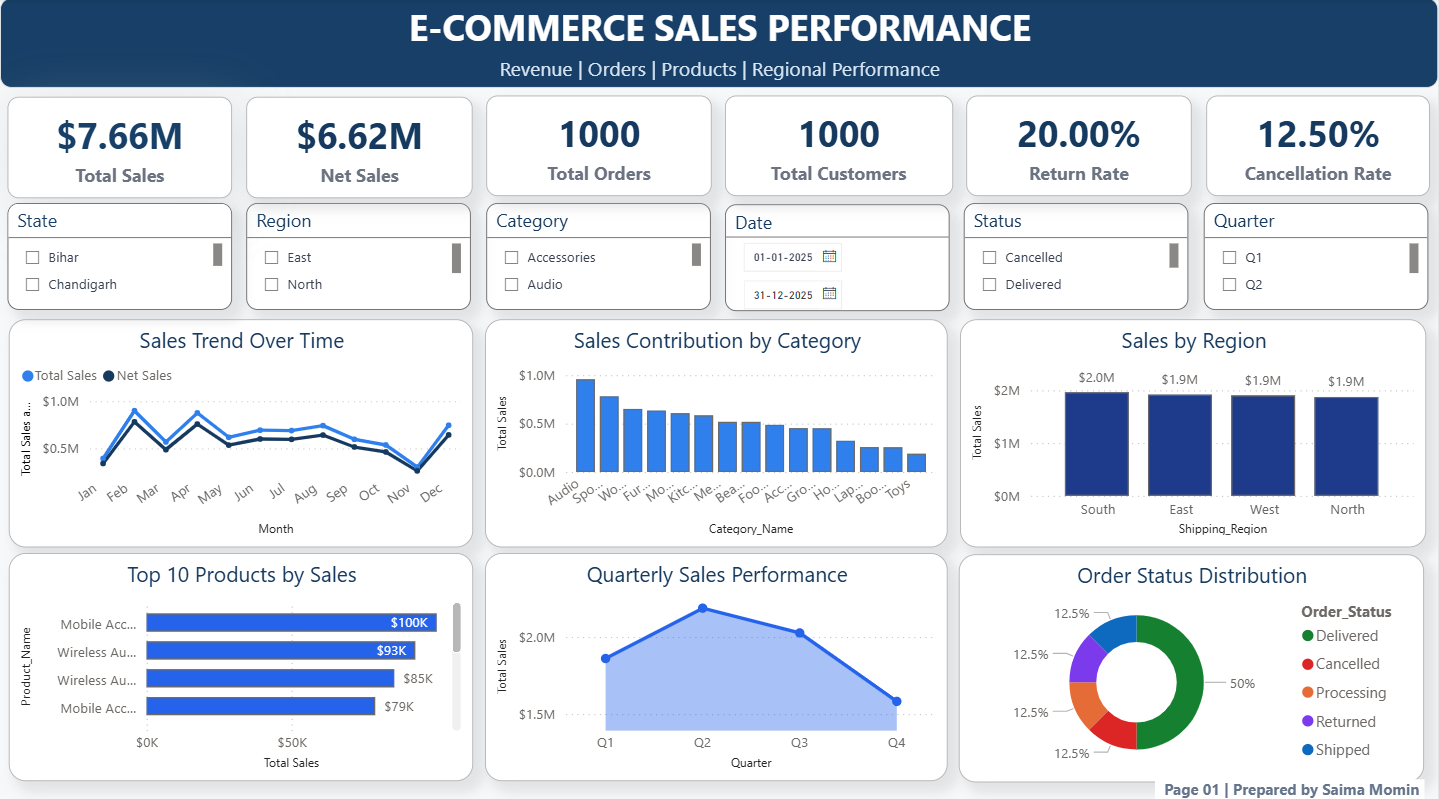

Layout of this report page (visuals, bound fields, positions):
{"tool":"powerbi","page":{"name":"Page 1","canvas":[1280,720],"ordinal":0},"visuals":[{"type":"textbox","title":"E-COMMERCE SALES PERFORMANCE","box":[0,0,1280.7,80],"z":0},{"type":"slicer","title":"Date","fields":{"Values":["Datetable.Date"]},"box":[645.7,183.5,200,95],"z":1000},{"type":"slicer","title":"Category ","fields":{"Values":["Categories.Category_Name"]},"box":[432.7,182.8,200.3,95.2],"z":2000},{"type":"slicer","title":"Region","fields":{"Values":["Orders.Shipping_Region"]},"box":[219.6,182.8,200.3,95.2],"z":3000},{"type":"slicer","title":"Status","fields":{"Values":["Orders.Order_Status"]},"box":[858.4,182.8,200.3,95.2],"z":4000},{"type":"card","fields":{"Values":["Measures .Total Sales"]},"box":[6.6,87.5,200.3,90.3],"z":5000},{"type":"card","fields":{"Values":["Measures .Net Sales"]},"box":[218.9,87.5,202,90.3],"z":6000},{"type":"card","fields":{"Values":["Measures .Total Orders"]},"box":[432.8,87,201.1,89.8],"z":7000},{"type":"card","fields":{"Values":["Measures .Total Customers"]},"box":[645.9,87,202.8,89.8],"z":8000},{"type":"card","fields":{"Values":["Measures .Return Rate"]},"box":[860.7,87,201.1,89.8],"z":9000},{"type":"card","fields":{"Values":["Measures .Cancellation Rate"]},"box":[1073.9,87,199.5,89.8],"z":10000},{"type":"lineChart","title":" Sales Trend Over Time","fields":{"Category":["Datetable.Month"],"Y":["Measures .Total Sales","Measures .Net Sales"]},"box":[7.4,285.7,413.8,203.6],"z":11000},{"type":"slicer","title":"Quarter","fields":{"Values":["Datetable.Quarter"]},"box":[1071.5,182.8,200,95.2],"z":12000},{"type":"lineClusteredColumnComboChart","title":"Sales Contribution by Category","fields":{"Category":["Categories.Category_Name"],"Y":["Measures .Total Sales"]},"box":[431.8,285.7,412.1,203.6],"z":13000},{"type":"clusteredBarChart","title":"Top 10 Products by Sales","fields":{"Category":["Products.Product_Name"],"Y":["Measures .Total Sales"]},"box":[7.7,494.8,413.8,203.6],"z":14000},{"type":"areaChart","title":"Quarterly Sales Performance","fields":{"Category":["Datetable.Quarter"],"Y":["Measures .Total Sales"]},"box":[431.6,494.8,412.1,203.6],"z":15000},{"type":"slicer","title":"State","fields":{"Values":["Orders.Shipping_State"]},"box":[6.6,182.8,200.3,95.2],"z":16000},{"type":"clusteredColumnChart","title":"Sales by Region","fields":{"Category":["Orders.Shipping_Region"],"Y":["Measures .Total Sales"]},"box":[854.6,285.7,415.4,203.6],"z":17000},{"type":"donutChart","title":"Order Status Distribution","fields":{"Category":["Orders.Order_Status"],"Y":["Measures .Total Orders"]},"box":[853.8,495.5,414.3,202.9],"z":18000},{"type":"textbox","title":"Page 01 | Prepared by Saima Momin","box":[1028,695.6,240.4,23.9],"z":19000}]}

Visuals, with their boxes in screenshot pixels (x1, y1, x2, y2), scaled from the page's 1280x720 canvas onto the 1439x799 screenshot:
"E-COMMERCE SALES PERFORMANCE" textbox: x1=0, y1=0, x2=1438, y2=89
"Date" slicer: x1=726, y1=204, x2=951, y2=309
"Category " slicer: x1=486, y1=203, x2=712, y2=309
"Region" slicer: x1=247, y1=203, x2=472, y2=309
"Status" slicer: x1=965, y1=203, x2=1190, y2=309
card - Measures .Total Sales: x1=7, y1=97, x2=233, y2=197
card - Measures .Net Sales: x1=246, y1=97, x2=473, y2=197
card - Measures .Total Orders: x1=487, y1=97, x2=713, y2=196
card - Measures .Total Customers: x1=726, y1=97, x2=954, y2=196
card - Measures .Return Rate: x1=968, y1=97, x2=1194, y2=196
card - Measures .Cancellation Rate: x1=1207, y1=97, x2=1432, y2=196
" Sales Trend Over Time" lineChart: x1=8, y1=317, x2=474, y2=543
"Quarter" slicer: x1=1205, y1=203, x2=1429, y2=309
"Sales Contribution by Category" lineClusteredColumnComboChart: x1=485, y1=317, x2=949, y2=543
"Top 10 Products by Sales" clusteredBarChart: x1=9, y1=549, x2=474, y2=775
"Quarterly Sales Performance" areaChart: x1=485, y1=549, x2=949, y2=775
"State" slicer: x1=7, y1=203, x2=233, y2=309
"Sales by Region" clusteredColumnChart: x1=961, y1=317, x2=1428, y2=543
"Order Status Distribution" donutChart: x1=960, y1=550, x2=1426, y2=775
"Page 01 | Prepared by Saima Momin" textbox: x1=1156, y1=772, x2=1426, y2=798
